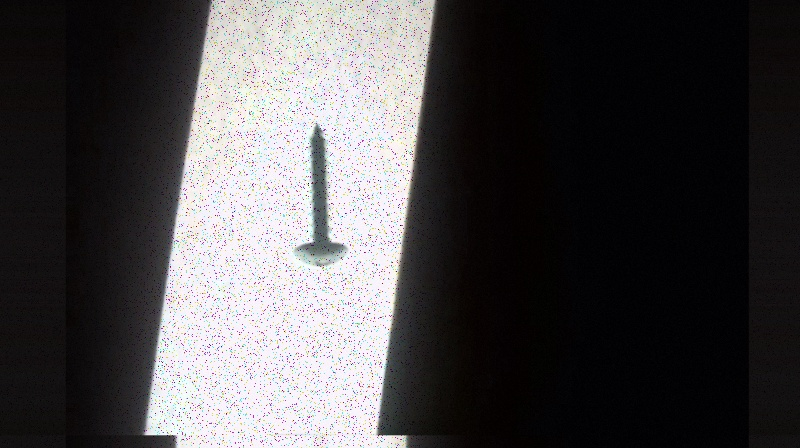S003: (290, 120, 352, 272)
